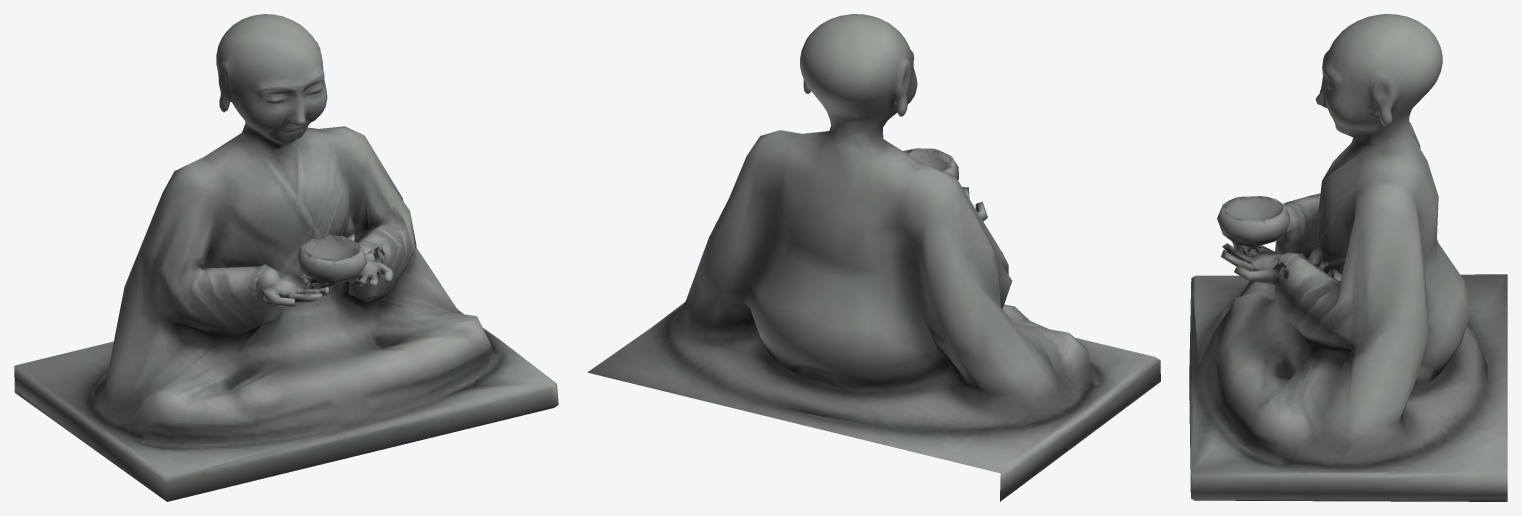
The model's file is arhat_bat.glb.
The picture shows the model from 3 angles, left to right: view 1: azimuth 30°, elevation 25°; view 2: azimuth 150°, elevation 25°; view 3: azimuth 270°, elevation 25°; orthographic projection. The views are drawn at different scales.
Visible parts, largest first — view 1: arhat_bat; view 2: arhat_bat; view 3: arhat_bat.
Boxes of the visible parts, bbox=[...] form: arhat_bat: bbox=[14, 14, 558, 501]; arhat_bat: bbox=[587, 14, 1160, 501]; arhat_bat: bbox=[1189, 14, 1507, 501].
Bounding box in the file's own units: 1.21 × 1.07 × 0.8077.
Materials: 1 (1 with a texture image).
